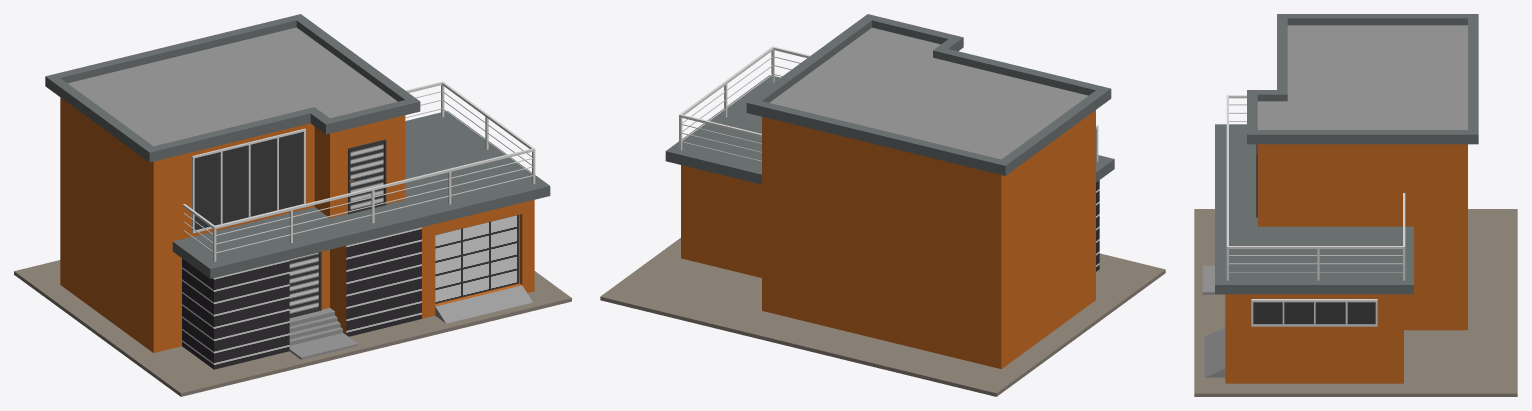
The model's file is building-house-02-color03.glb.
3 views of the same model, side by side, from view 1: azimuth 30°, elevation 25°; view 2: azimuth 150°, elevation 25°; view 3: azimuth 270°, elevation 25° (orthographic). The views are drawn at different scales.
Visible parts, largest first — view 1: model; view 2: model; view 3: model.
Boxes of the visible parts, <box> form: model: <box>14,14,571,396</box>; model: <box>600,14,1165,396</box>; model: <box>1194,14,1517,396</box>.
Size of the model in its own units: 17.58 by 9.04 by 13.01.
1 material, 1 textured.
